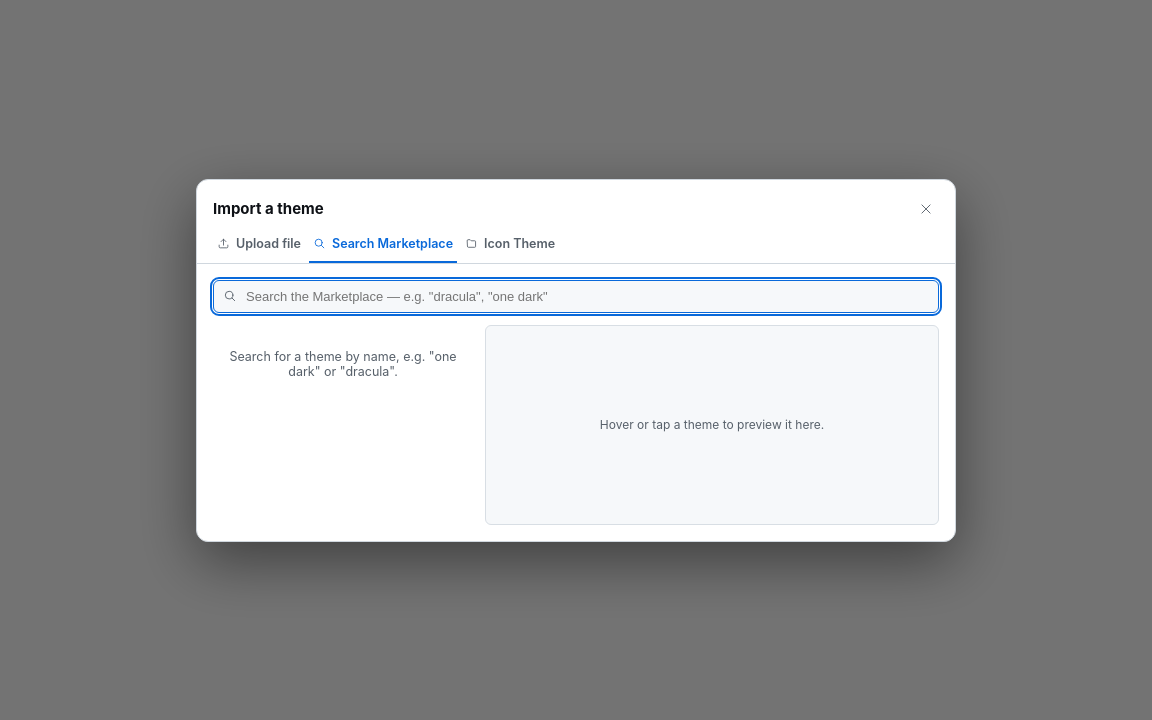
Test: ImportThemeDialog — search tab › shows "no themes found" for an empty result set
Type "zzzznotarealtheme" into the field named "Search the VS Code Marketplace for a theme" at x=576, y=296, box 213,280 -> 939,312
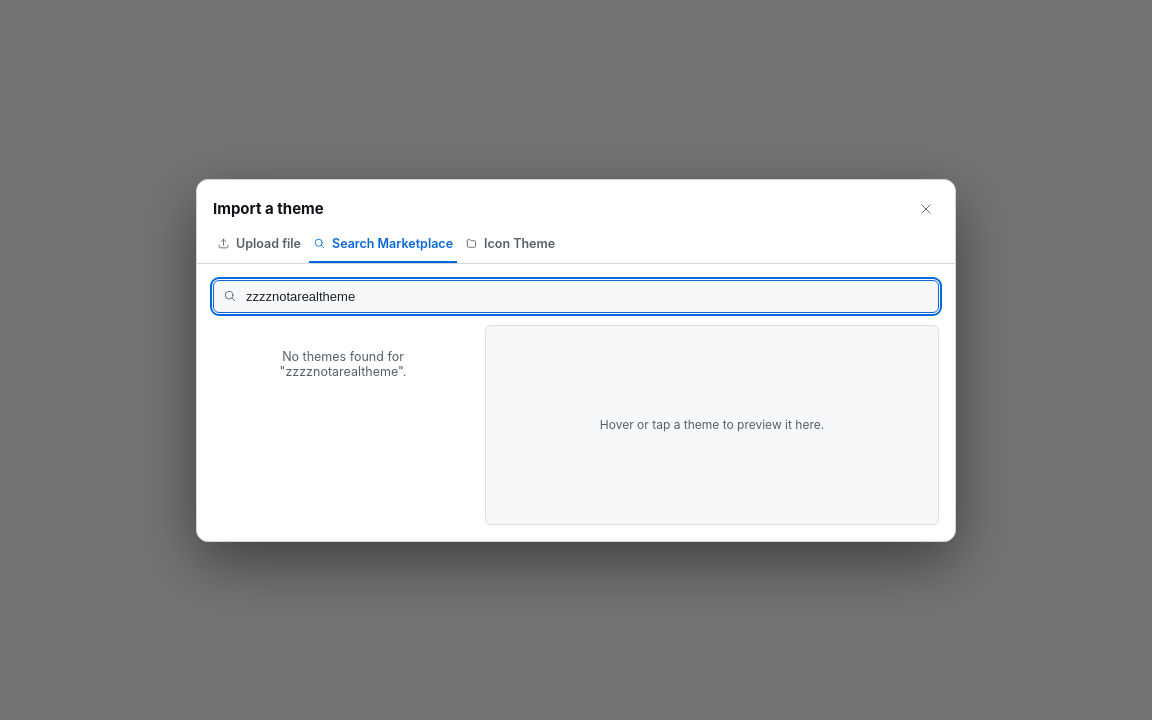
Check: the text "No themes found for \"zzzznotarealtheme\"." is shown, box 280,348 -> 406,378
